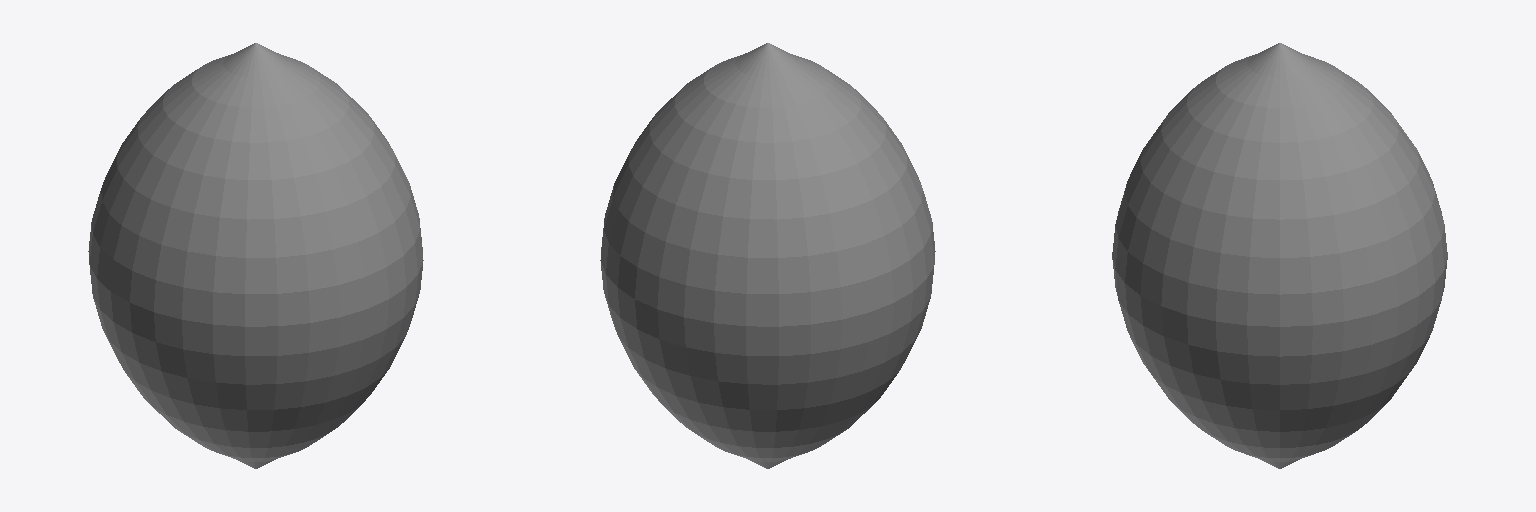
The model's file is lemon.obj.
3 views of the same model, side by side, from view 1: azimuth 30°, elevation 25°; view 2: azimuth 150°, elevation 25°; view 3: azimuth 270°, elevation 25° (orthographic).
Parts seen in each view (by area): view 1: Sphere01; view 2: Sphere01; view 3: Sphere01.
Part boxes in pixels (left/top/right/bottom): Sphere01: left=88, top=43, right=423, bottom=468; Sphere01: left=600, top=43, right=935, bottom=468; Sphere01: left=1112, top=43, right=1447, bottom=468.
Bounding box in the file's own units: 55.21 × 77.45 × 55.21.